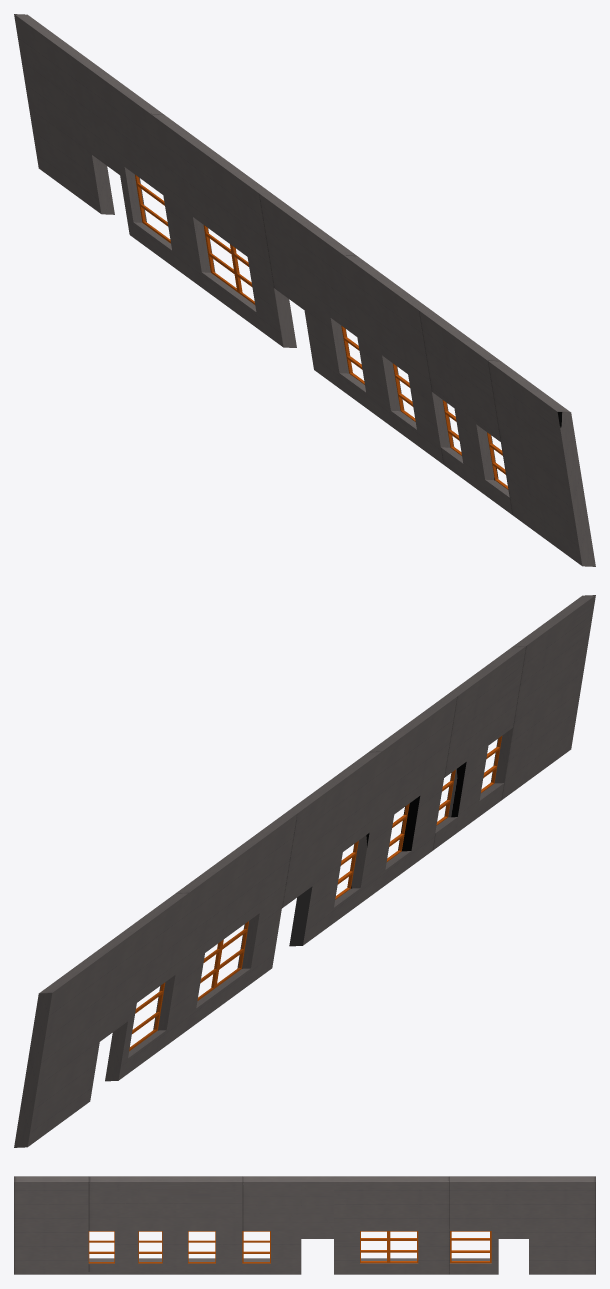
File: bib_wall.fbx
3 views of the same model, one above another, from view 1: azimuth 30°, elevation 25°; view 2: azimuth 150°, elevation 25°; view 3: azimuth 270°, elevation 25° (orthographic). The views are drawn at different scales.
Visible parts, largest first — view 1: bib_wall, bib_window_1; view 2: bib_wall, bib_window_1; view 3: bib_wall, bib_window_1, bib_window_2, bib_window_3, bib_window_7, bib_window_5, bib_window_6.
Boxes of the visible parts, x1,y1,x2,y2 form: bib_wall: (14, 14, 595, 566); bib_window_1: (203, 225, 255, 304); bib_wall: (14, 595, 595, 1147); bib_window_1: (197, 921, 248, 1000); bib_wall: (14, 1176, 595, 1274); bib_window_1: (360, 1231, 418, 1263); bib_window_2: (450, 1231, 491, 1263); bib_window_3: (242, 1231, 270, 1263); bib_window_7: (88, 1231, 114, 1263); bib_window_5: (188, 1231, 215, 1263); bib_window_6: (138, 1231, 162, 1263).
Size of the model in its own units: 136 by 556 by 3332.
Materials: 2 (1 with a texture image).
